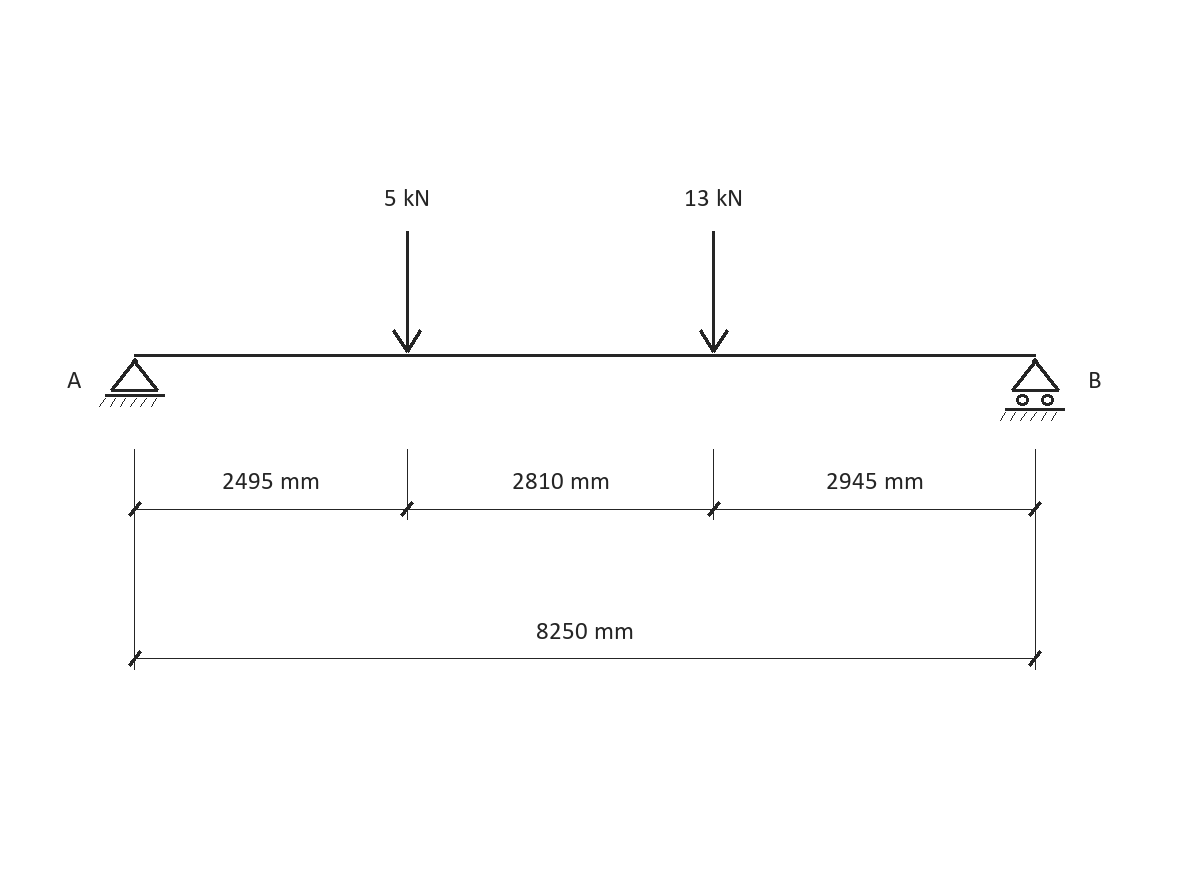pin_support: (99, 358, 165, 407)
point_load: (392, 231, 422, 353), (699, 231, 729, 353)
roller_support: (1000, 358, 1065, 421)
